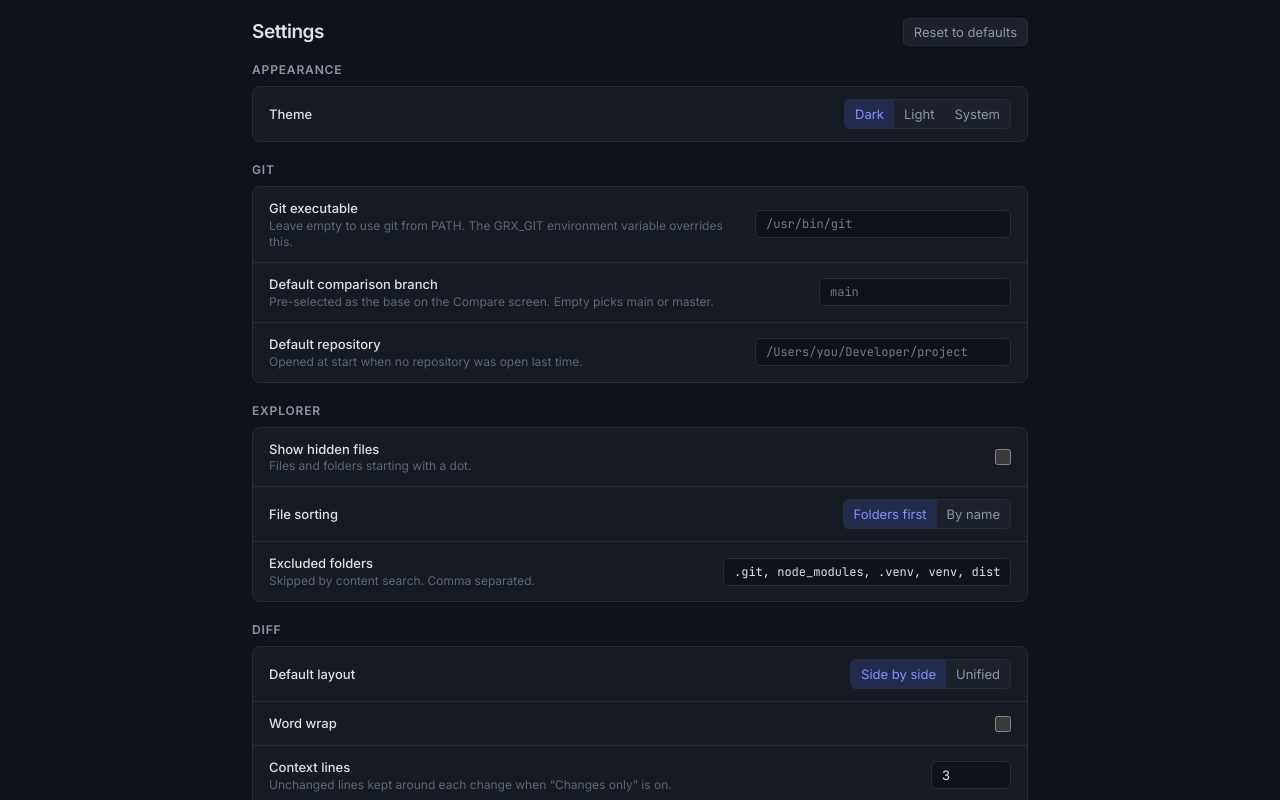
Test: settings: changing a value saves it, and a rejected value is reverted with the reason
The image size is (1280, 800).
Click the button "Light": (919, 114) [894, 100, 944, 128]
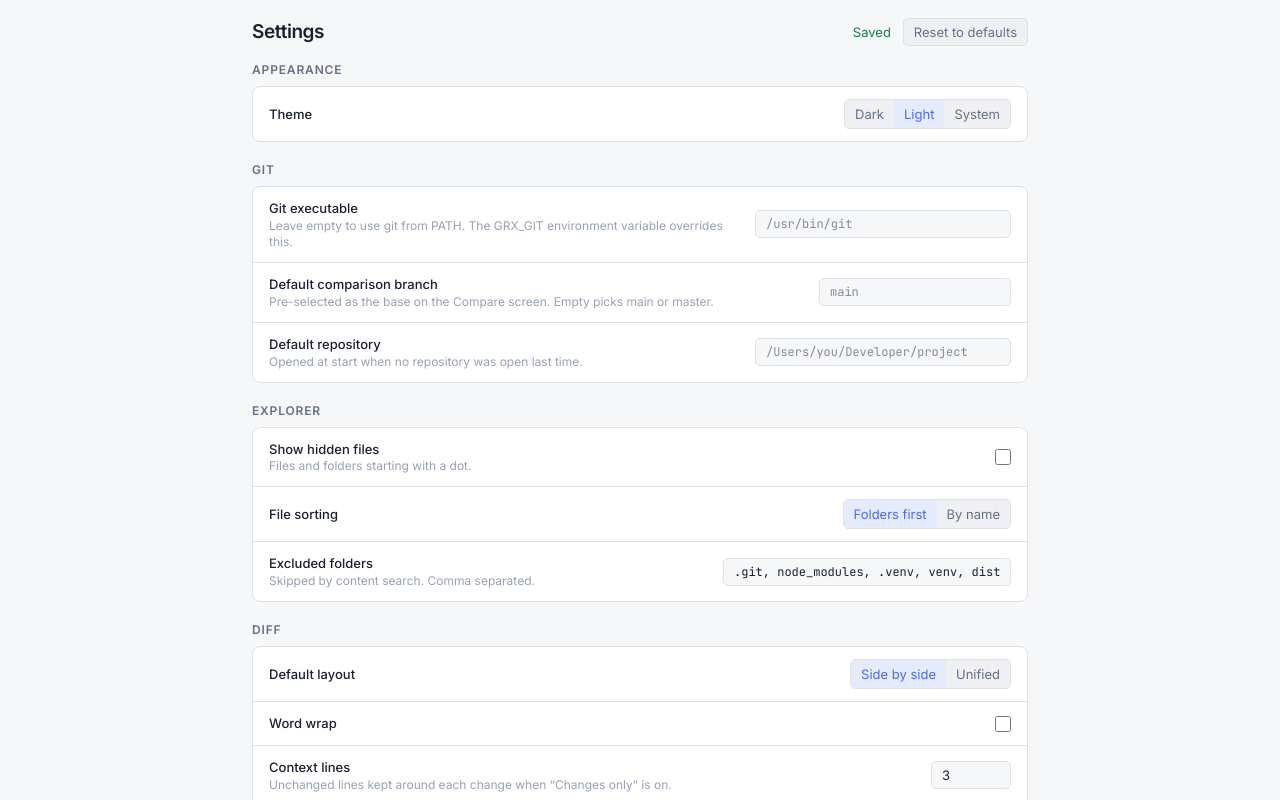
Check: the message reads "Saved", box [853, 24, 891, 40]
In the field named "Git executable path": (883, 224) [755, 210, 1011, 238], type "/nope"
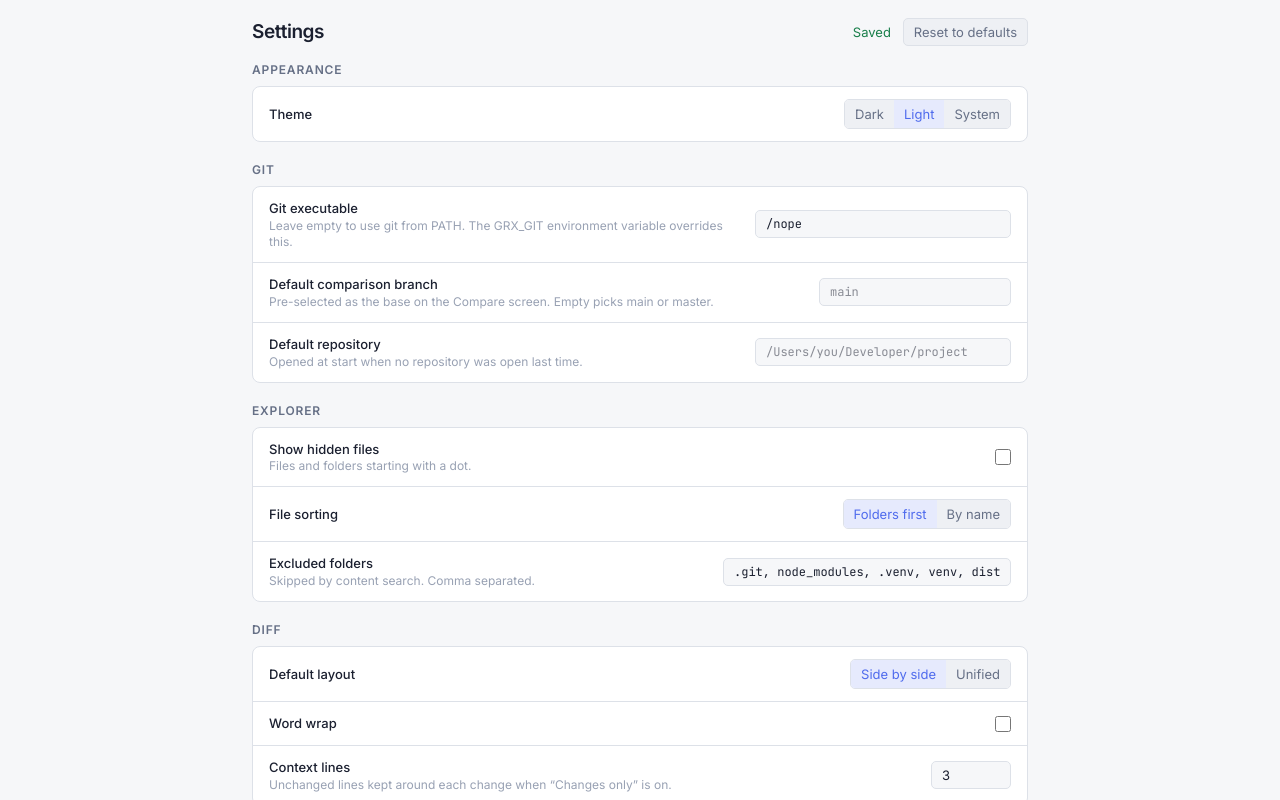
Leave the field named "Git executable path", box [755, 210, 1011, 238]
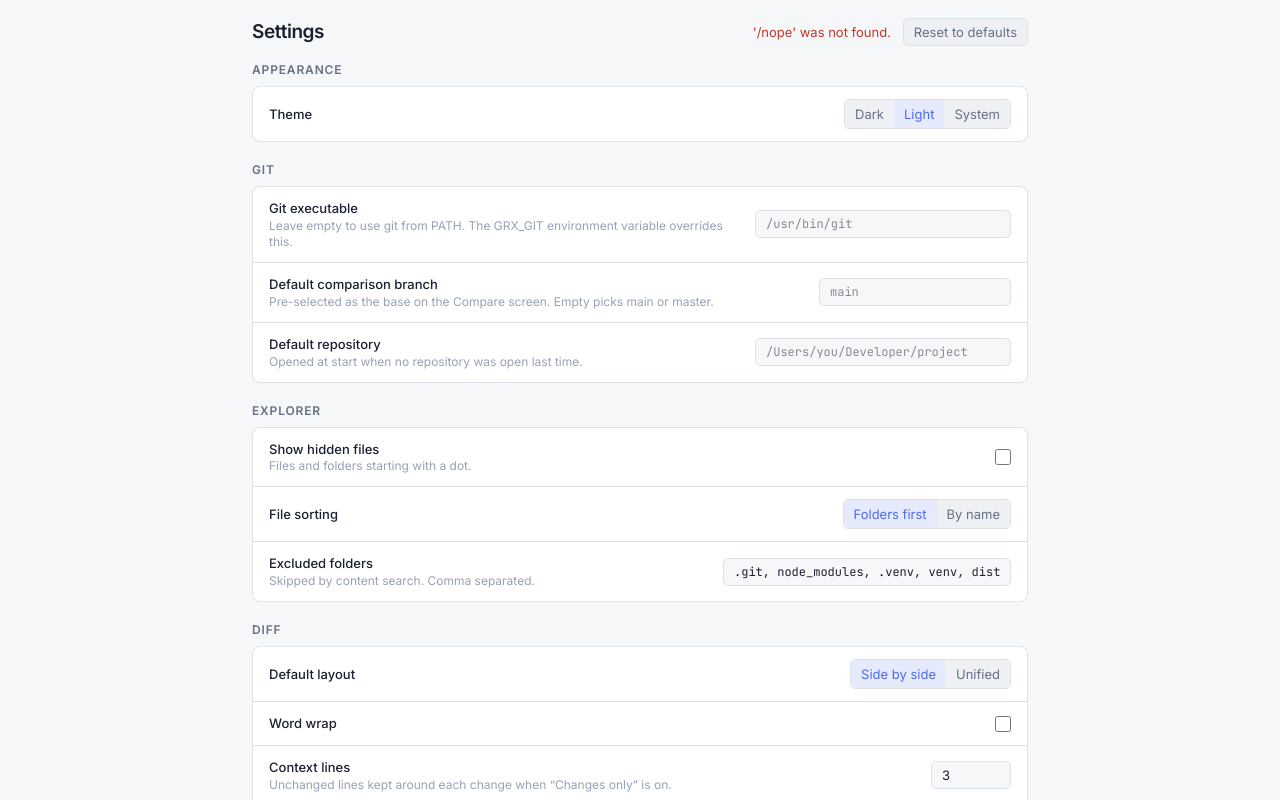
Check: the message shows "was not found", box [753, 24, 891, 40]
